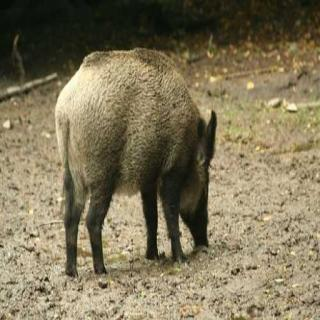Pig: (35, 24, 238, 298)
